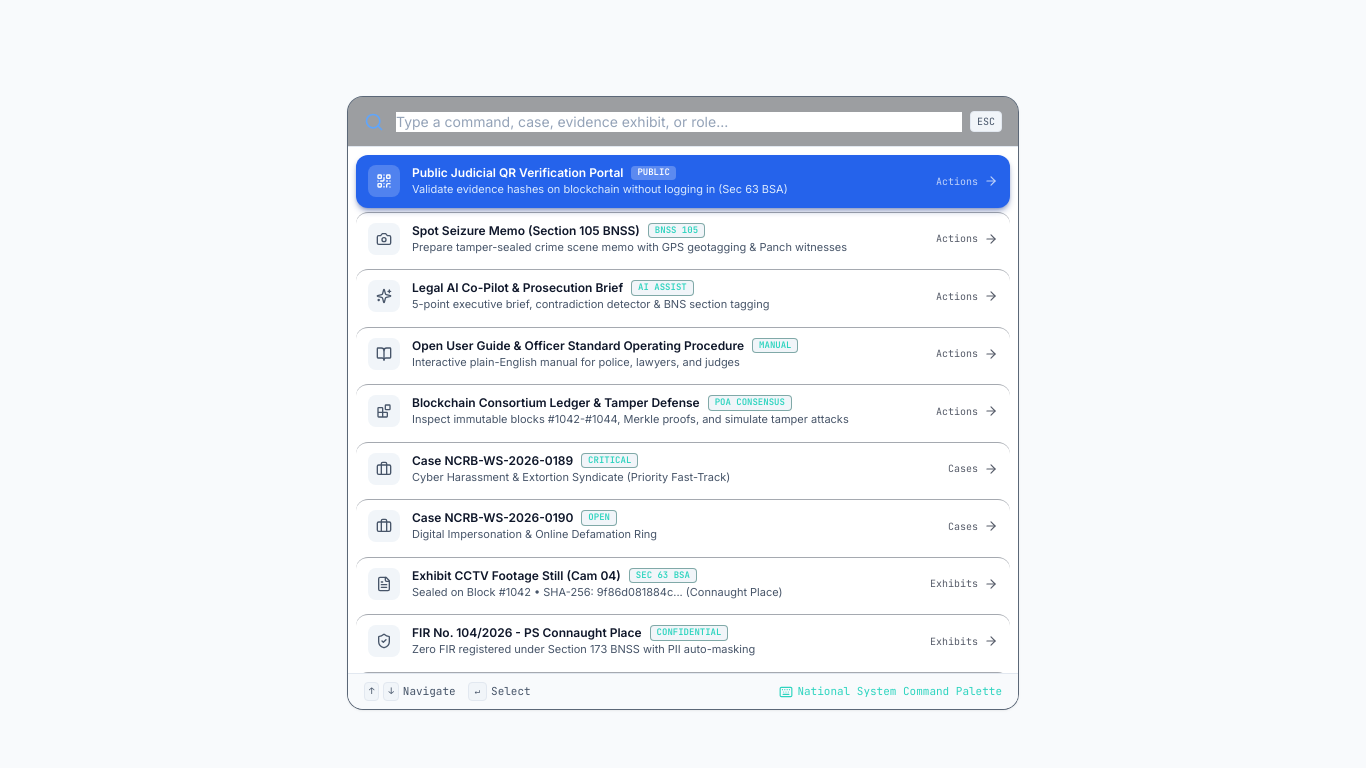
Test case: User-Friendly & Premium Features Test Suite › renders CommandPaletteModal with fuzzy search and quick action execution
The width and height of the screenshot is (1366, 768).
Expected: the text "Public Judicial QR Verification Portal" is shown, [412, 165, 623, 181]
Expected: the text "Spot Seizure Memo (Section 105 BNSS)" is shown, [412, 222, 640, 238]
Note: Type search query
In the field with placeholder "Type a command, case, evidence exhibit, or role...": (679, 122) [396, 112, 962, 132], type "CCTV"
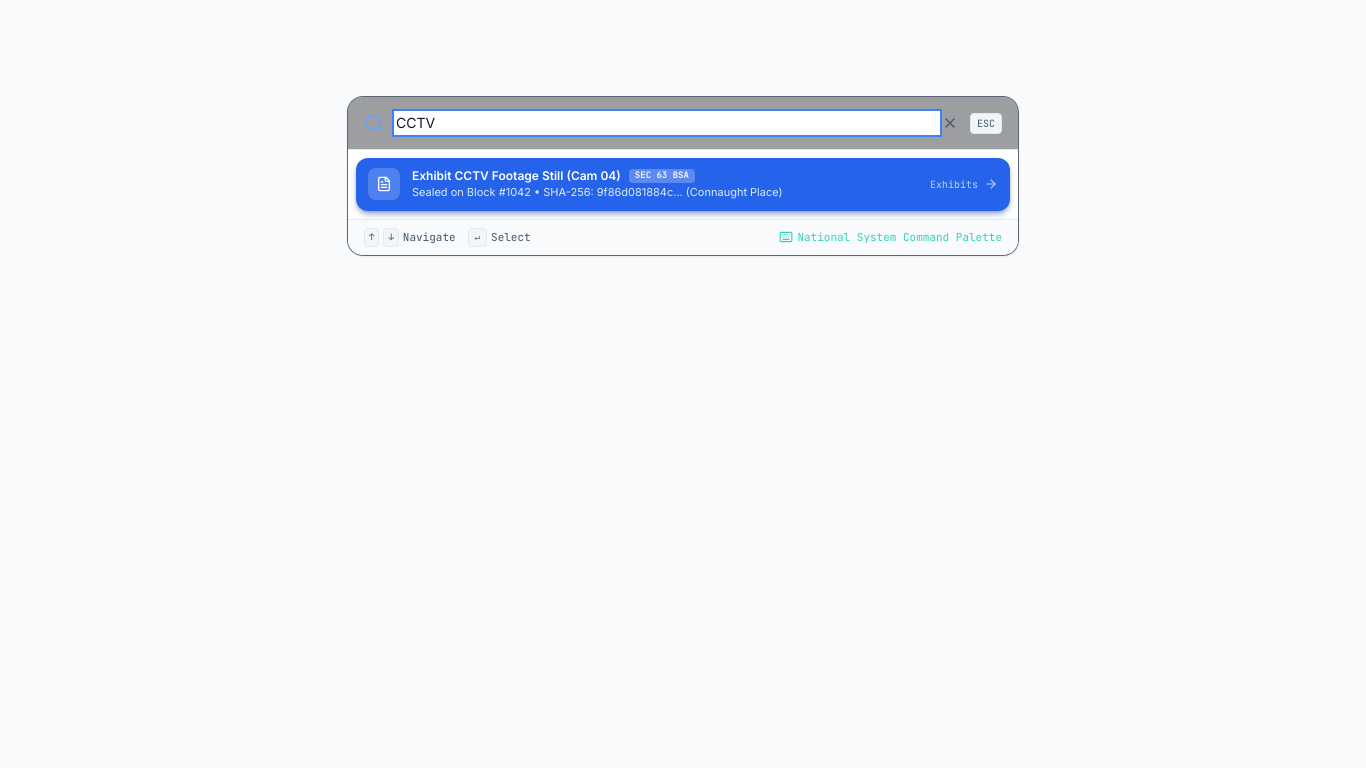
Expected: the text "Exhibit CCTV Footage Still (Cam 04)" is shown, [412, 168, 621, 184]
Expected: the button "Spot Seizure Memo" is gone
